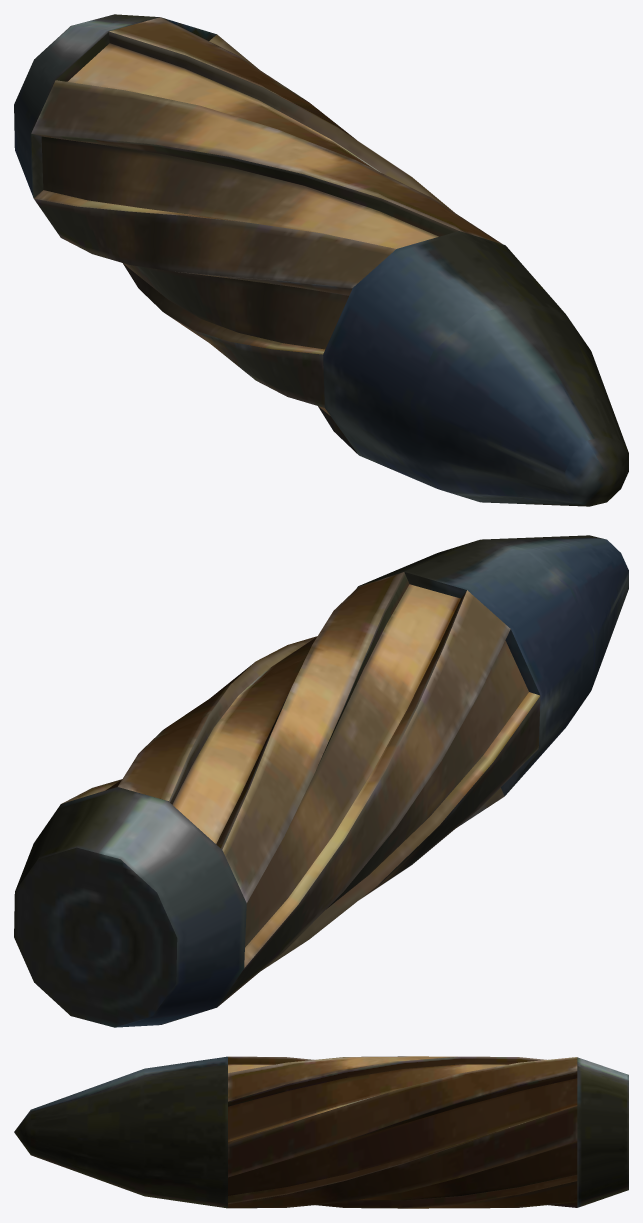
Rendered from Mod_gun_dantou.obj.
3 views of the same model, one above another, from view 1: azimuth 30°, elevation 25°; view 2: azimuth 150°, elevation 25°; view 3: azimuth 270°, elevation 25° (orthographic). The views are drawn at different scales.
Visible parts, largest first — view 1: Mod_gun_dantou; view 2: Mod_gun_dantou; view 3: Mod_gun_dantou.
Part boxes in pixels (<box>): Mod_gun_dantou: <box>14,14,628,506</box>; Mod_gun_dantou: <box>14,535,628,1027</box>; Mod_gun_dantou: <box>14,1056,628,1208</box>.
Bounding box in the file's own units: 0.0142 × 0.0142 × 0.057.
Materials: 1 (1 with a texture image).
